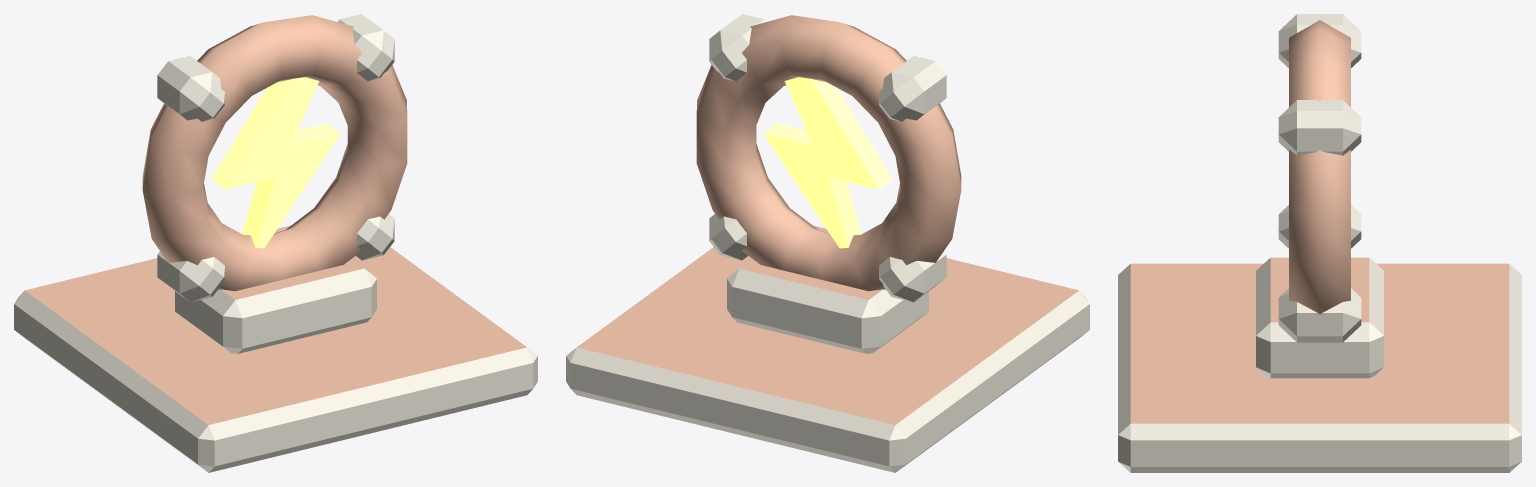
File: R4X_RechargePulse_LOD1.fbx
3 views of the same model, side by side, from view 1: azimuth 30°, elevation 25°; view 2: azimuth 150°, elevation 25°; view 3: azimuth 270°, elevation 25° (orthographic). The views are drawn at different scales.
Visible parts, largest first — view 1: R4X_RechargePulse_LOD1; view 2: R4X_RechargePulse_LOD1; view 3: R4X_RechargePulse_LOD1.
Part boxes in pixels (x1,y1,x2,y2): R4X_RechargePulse_LOD1: (14, 14, 537, 472); R4X_RechargePulse_LOD1: (566, 14, 1089, 472); R4X_RechargePulse_LOD1: (1118, 14, 1521, 472).
Bounding box in the file's own units: 0.52 × 0.5081 × 0.52.
